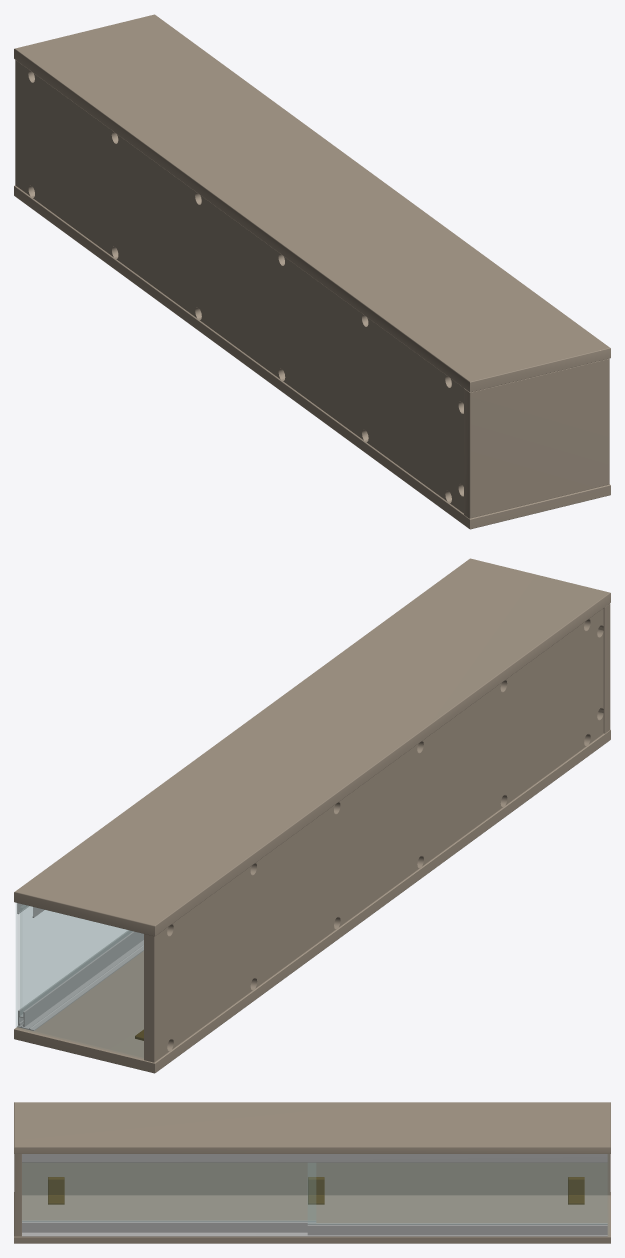
File: armario.glb
3 views of the same model, one above another, from view 1: azimuth 30°, elevation 25°; view 2: azimuth 150°, elevation 25°; view 3: azimuth 270°, elevation 25° (orthographic). The views are drawn at different scales.
Parts seen in each view (by area): view 1: Object_3; view 2: Object_3, Object_5, Object_2; view 3: Object_3, Object_5, Object_2, Object_4.
Part boxes in pixels (x1,y1,x2,y2): Object_3: [14, 14, 610, 529]; Object_3: [14, 558, 610, 1073]; Object_5: [16, 903, 143, 1058]; Object_2: [17, 903, 143, 1030]; Object_3: [14, 1102, 610, 1243]; Object_5: [22, 1154, 608, 1235]; Object_2: [22, 1154, 607, 1236]; Object_4: [48, 1177, 584, 1204].
Bounding box in the file's own units: 25 × 25 × 140.
Materials: 4 (1 with a texture image).
